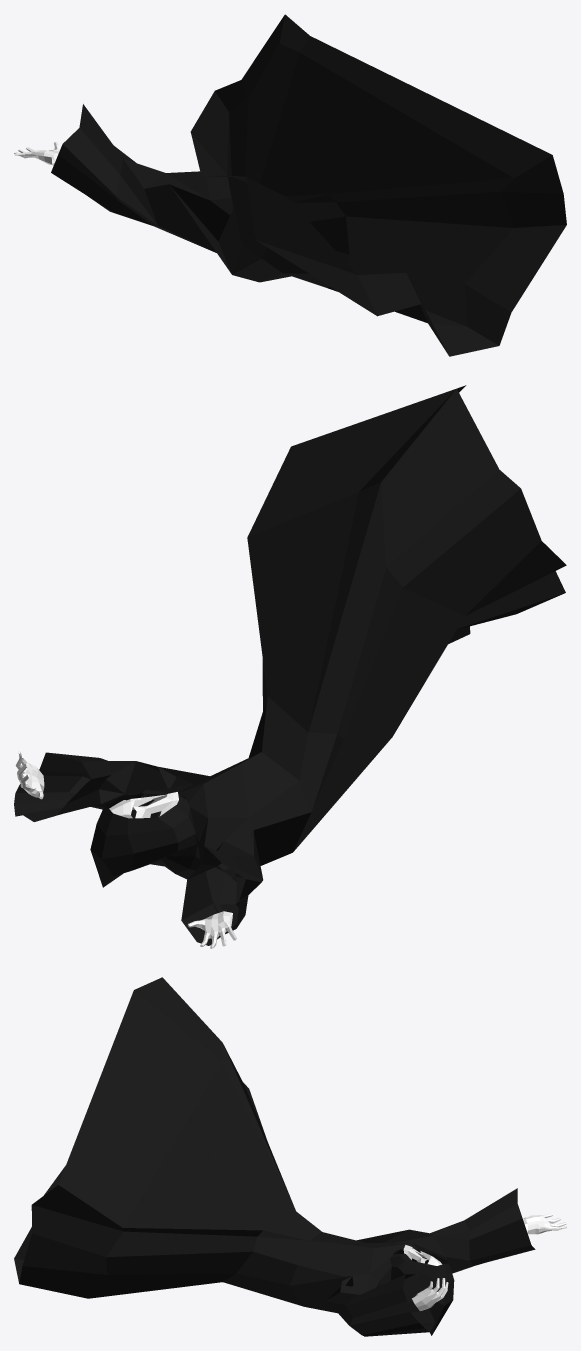
Rendered from ReaperDead(79).obj.
The picture shows the model from 3 angles, top to bottom: view 1: azimuth 30°, elevation 25°; view 2: azimuth 150°, elevation 25°; view 3: azimuth 270°, elevation 25°; orthographic projection. The views are drawn at different scales.
Parts seen in each view (by area): view 1: Plane003; view 2: Plane003; view 3: Plane003.
Part boxes in pixels (bbox=[...]): Plane003: bbox=[14, 14, 566, 356]; Plane003: bbox=[14, 385, 566, 948]; Plane003: bbox=[14, 977, 566, 1336].
Size of the model in its own units: 152 by 161 by 268.
